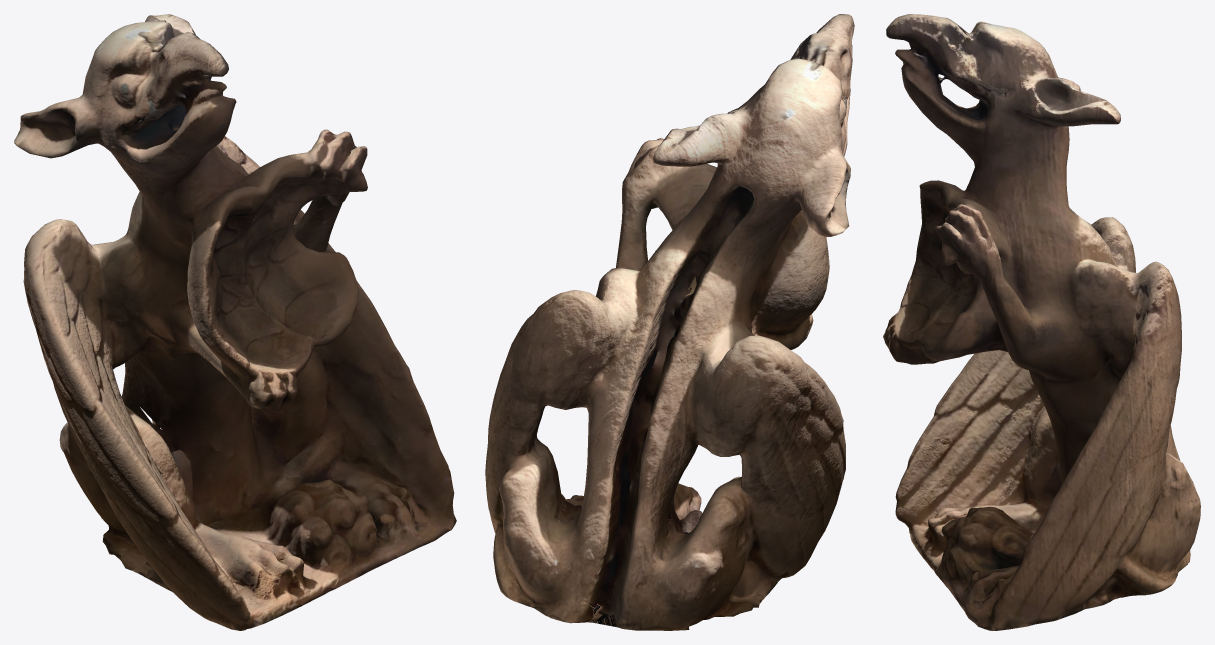
File: 10_griffin.gltf
3 renders of one model, left to right at view 1: azimuth 30°, elevation 25°; view 2: azimuth 150°, elevation 25°; view 3: azimuth 270°, elevation 25°, orthographic. The views are drawn at different scales.
Parts seen in each view (by area): view 1: Mesh_0.001; view 2: Mesh_0.001; view 3: Mesh_0.001.
Boxes of the visible parts, x1,y1,x2,y2 form: Mesh_0.001: (14,14,456,630); Mesh_0.001: (485,14,854,630); Mesh_0.001: (883,14,1200,630).
Size of the model in its own units: 2.44 by 3.49 by 2.
5 materials, 5 textured.
